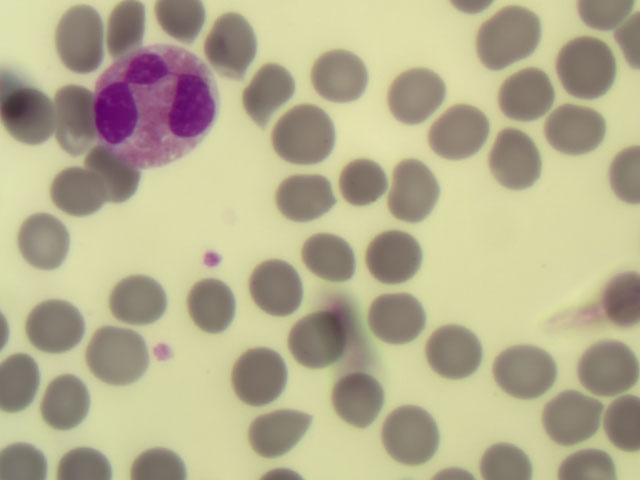Platelets: (203, 248, 225, 270), (148, 344, 178, 360)
RBC: (18, 214, 73, 266), (50, 165, 105, 217), (70, 152, 125, 204), (47, 85, 102, 137), (1, 93, 56, 145), (49, 8, 104, 60), (85, 1, 140, 53), (205, 15, 260, 67), (241, 63, 296, 115), (273, 110, 328, 162), (280, 172, 335, 224), (316, 52, 371, 104), (389, 69, 444, 121), (428, 105, 483, 157), (386, 164, 441, 216), (340, 161, 395, 213), (365, 231, 420, 283), (306, 233, 361, 285), (249, 260, 304, 312), (185, 283, 240, 335), (108, 270, 163, 322), (89, 330, 144, 382), (26, 301, 81, 353), (48, 370, 103, 422), (255, 404, 310, 456), (234, 353, 289, 405), (283, 317, 338, 369), (368, 289, 423, 341), (333, 369, 388, 421), (374, 402, 429, 454), (423, 330, 478, 382), (497, 343, 552, 395), (551, 390, 606, 442), (585, 340, 640, 392), (489, 135, 544, 187), (498, 74, 553, 126), (481, 10, 536, 62), (559, 38, 614, 90), (544, 106, 599, 158), (156, 1, 211, 52)
WBC: (92, 43, 215, 173)
